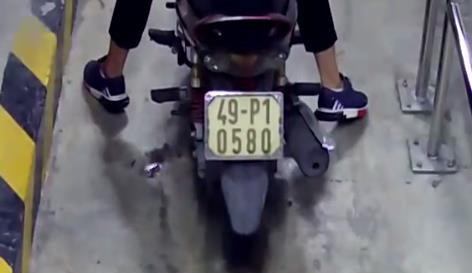lisence: (203, 90, 286, 162)
